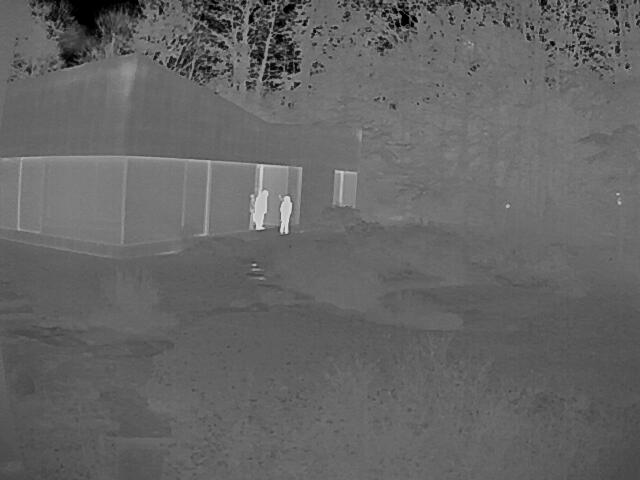person: (276, 193, 291, 234), (253, 189, 267, 228)
